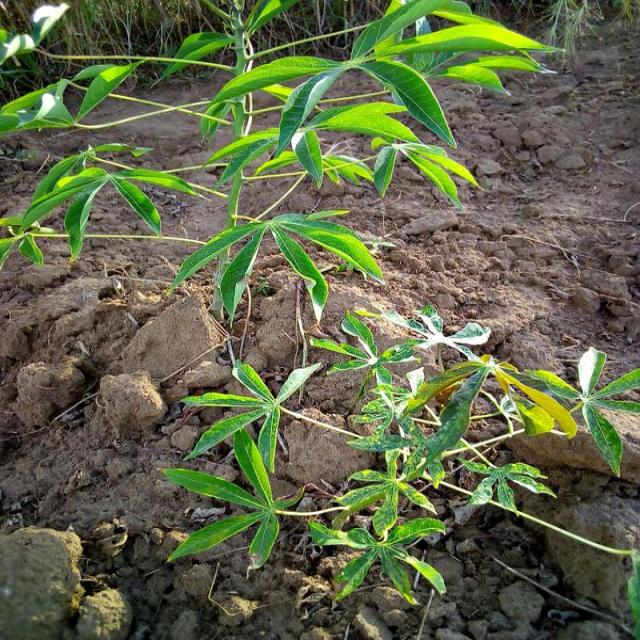cassava leaf: (2, 0, 566, 329)
